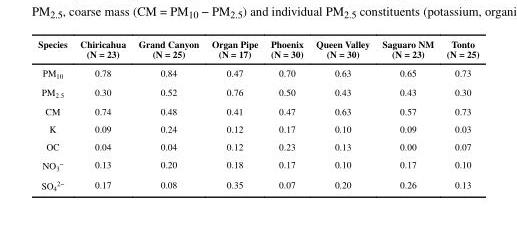table: (38, 37, 479, 192)
table column: (132, 37, 205, 192), (310, 37, 376, 192), (376, 37, 440, 192), (205, 37, 264, 192), (74, 37, 132, 192), (264, 37, 310, 192), (440, 37, 479, 192), (38, 37, 74, 192)
table column header: (38, 37, 479, 63)
table row: (38, 37, 479, 63), (38, 154, 479, 174), (38, 63, 479, 82), (38, 82, 479, 101), (38, 101, 479, 119), (38, 119, 479, 137), (38, 174, 479, 192), (38, 137, 479, 154)
